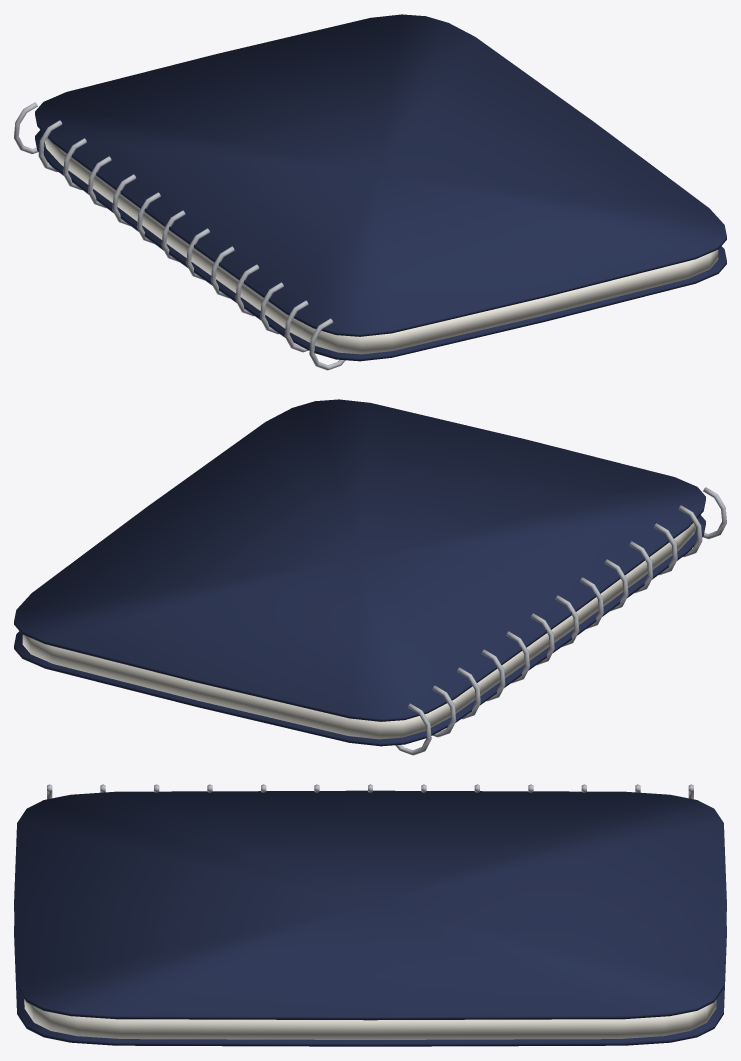
The model's file is Notebook.fbx.
3 views of the same model, one above another, from view 1: azimuth 30°, elevation 25°; view 2: azimuth 150°, elevation 25°; view 3: azimuth 270°, elevation 25° (orthographic). The views are drawn at different scales.
Parts seen in each view (by area): view 1: Notebook; view 2: Notebook; view 3: Notebook.
Part boxes in pixels (bbox=[...]): Notebook: bbox=[14, 14, 726, 370]; Notebook: bbox=[14, 399, 726, 755]; Notebook: bbox=[14, 784, 726, 1046].
Bounding box in the file's own units: 0.213 × 0.0241 × 0.28.
